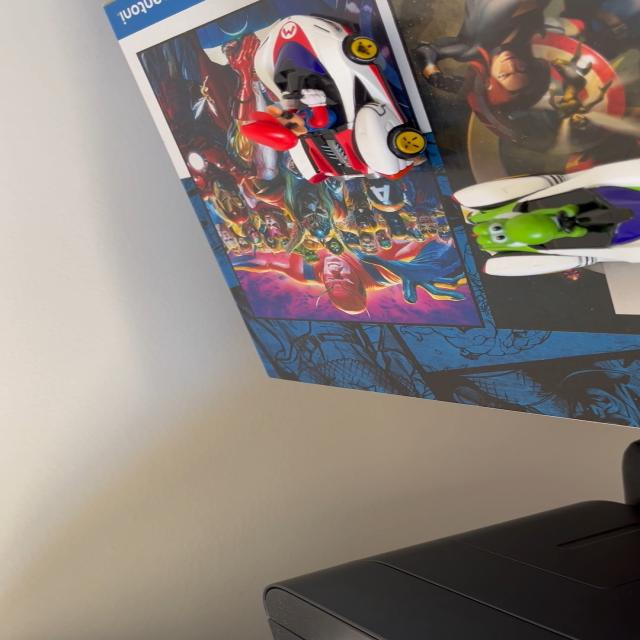mario: (233, 0, 448, 188)
yoshi: (445, 156, 640, 294)
